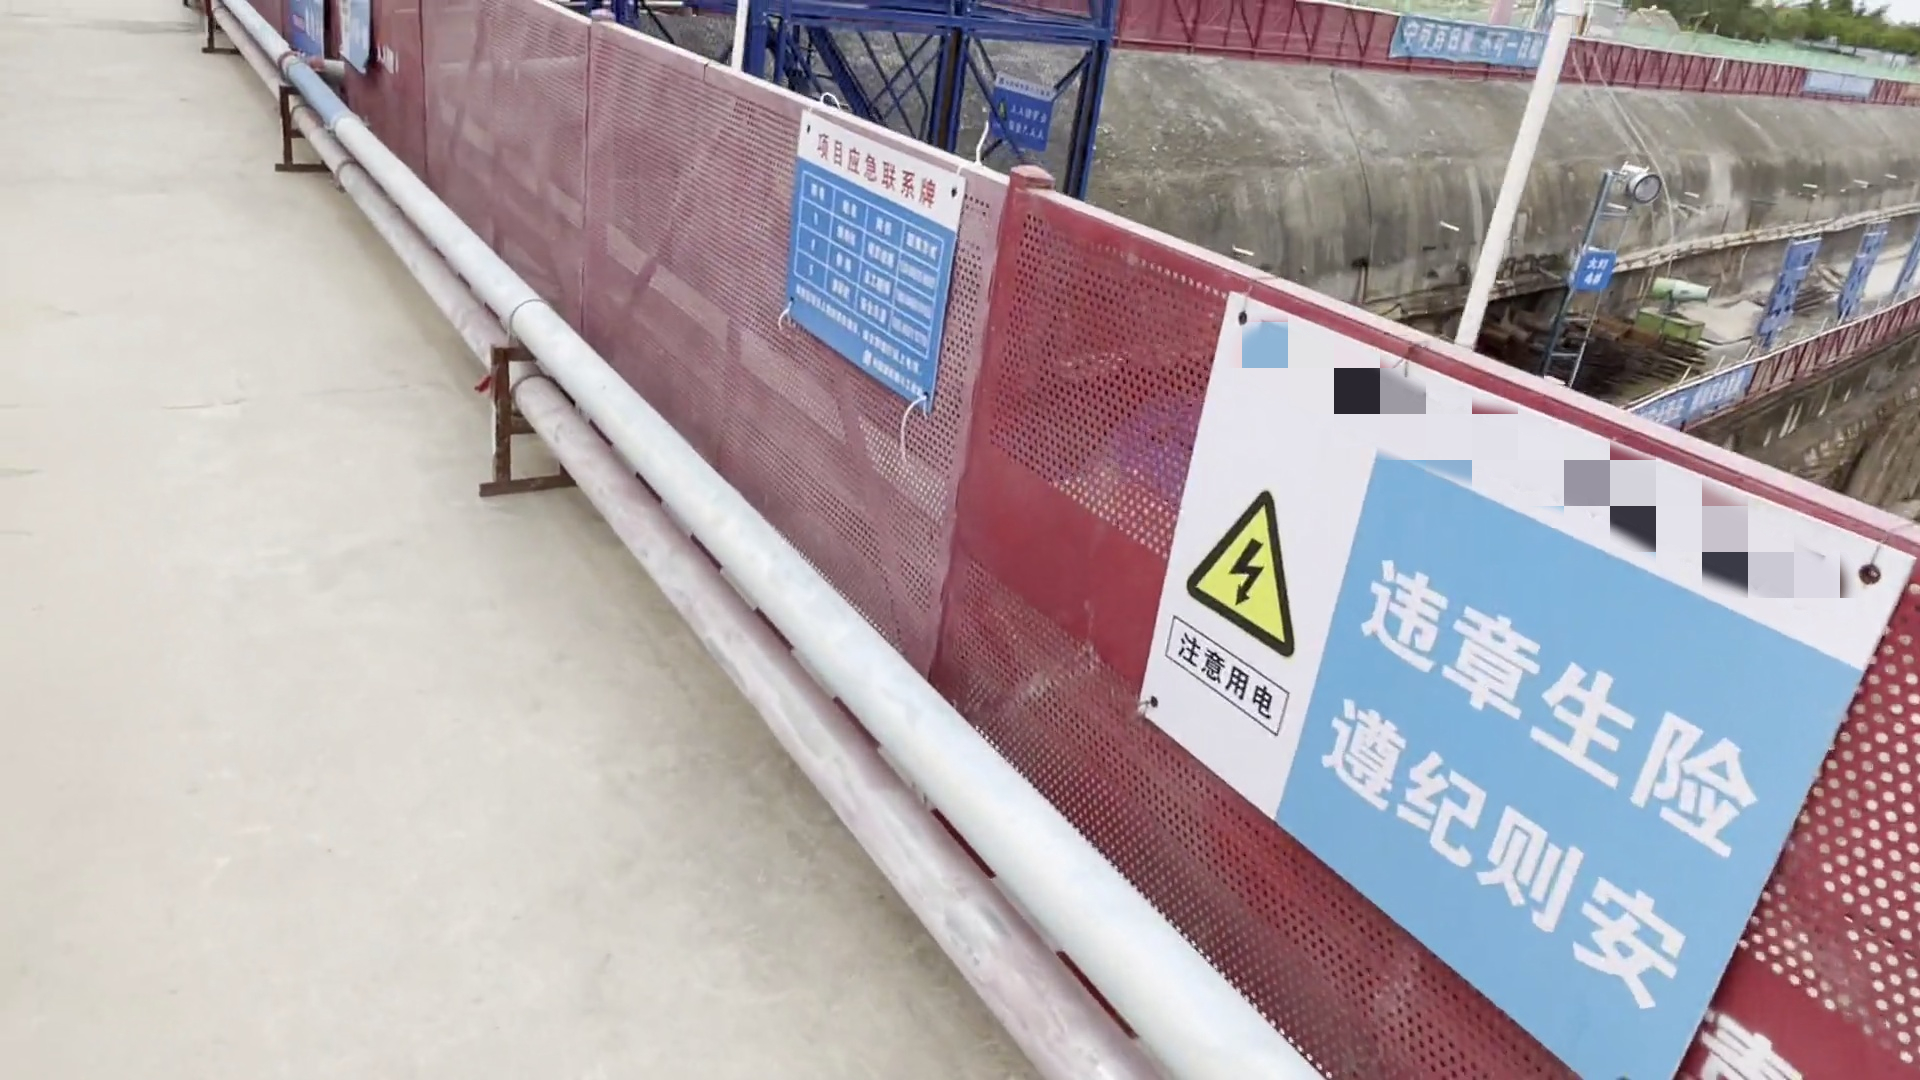slogan: (1366, 11, 1685, 88)
